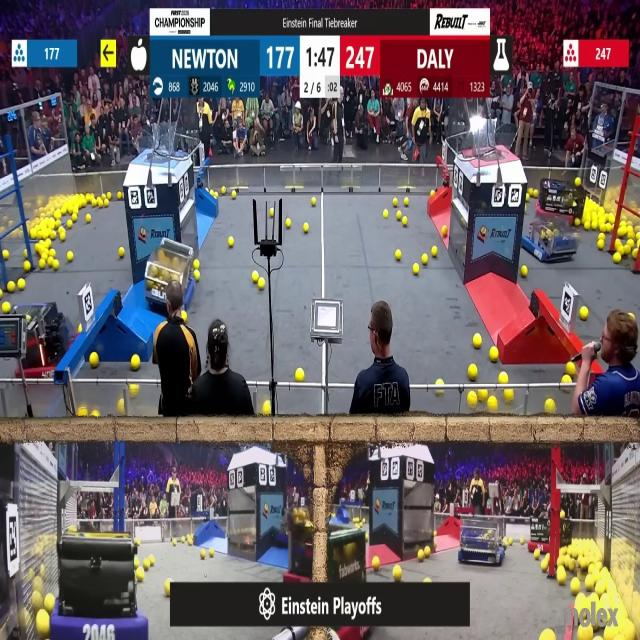ball_airborne: (36, 614, 50, 638), (560, 512, 565, 521)
ball_ground: (44, 595, 54, 612), (91, 352, 100, 368), (544, 398, 553, 414), (570, 580, 579, 596), (557, 568, 566, 584), (392, 566, 402, 580), (467, 392, 476, 407), (488, 396, 498, 409), (468, 363, 476, 379), (132, 354, 140, 370), (566, 361, 575, 375), (264, 403, 273, 417), (542, 630, 554, 640), (136, 568, 145, 581), (472, 335, 480, 349), (116, 402, 124, 416), (165, 582, 172, 598), (586, 580, 595, 592), (295, 367, 303, 380), (479, 389, 488, 400), (491, 348, 498, 362), (504, 389, 512, 401), (371, 557, 378, 570), (77, 409, 86, 419), (2, 303, 10, 314), (499, 373, 507, 384), (582, 308, 589, 320), (54, 261, 61, 273), (540, 560, 547, 572), (598, 221, 606, 231), (615, 252, 622, 263), (7, 282, 14, 293), (39, 261, 46, 272), (413, 265, 420, 276), (143, 559, 150, 570), (46, 257, 53, 268), (395, 249, 401, 261), (522, 267, 528, 279), (60, 230, 66, 242), (443, 224, 449, 236), (627, 230, 635, 239), (624, 247, 632, 256), (17, 280, 24, 290), (67, 251, 74, 261), (418, 552, 425, 562), (585, 220, 592, 230), (49, 231, 56, 241), (424, 546, 431, 556), (605, 222, 612, 232), (258, 279, 264, 290), (598, 240, 604, 251), (134, 558, 140, 569), (563, 376, 571, 384), (438, 379, 446, 387), (131, 384, 138, 393), (619, 229, 626, 238), (25, 263, 31, 273), (227, 238, 233, 248), (304, 222, 310, 232), (252, 273, 258, 283), (3, 250, 9, 260), (422, 254, 428, 264), (632, 249, 638, 259), (193, 272, 199, 282), (201, 550, 207, 560), (617, 240, 623, 250), (286, 218, 292, 228), (149, 556, 155, 566), (592, 220, 598, 230), (48, 249, 55, 257), (627, 239, 634, 247), (401, 216, 407, 225), (84, 214, 90, 223), (67, 219, 73, 228), (182, 312, 188, 321), (93, 199, 99, 208), (118, 248, 123, 258), (424, 576, 431, 583), (115, 191, 122, 198), (93, 412, 100, 419), (392, 200, 398, 208), (104, 200, 110, 208), (534, 552, 540, 560), (106, 191, 112, 199), (172, 537, 178, 545), (269, 208, 275, 216), (45, 240, 51, 248), (220, 186, 226, 194), (76, 324, 82, 332), (436, 388, 442, 396), (574, 218, 579, 227), (598, 234, 605, 240), (432, 247, 436, 257), (403, 199, 408, 207), (384, 209, 388, 219), (193, 262, 198, 270), (396, 212, 401, 220), (507, 537, 512, 545), (99, 200, 104, 208), (24, 250, 29, 258), (72, 214, 77, 222), (184, 538, 188, 547), (529, 188, 534, 195), (312, 199, 316, 207), (234, 190, 238, 198), (210, 550, 214, 558), (0, 290, 4, 298), (636, 232, 640, 240), (135, 538, 140, 544), (188, 538, 192, 545), (521, 538, 525, 544), (433, 530, 436, 536)
goal: (464, 120, 521, 160), (130, 130, 189, 160)
robot_blue: (54, 536, 145, 640), (147, 244, 196, 312), (524, 214, 578, 264), (460, 515, 506, 566)
robot_red: (537, 171, 585, 226), (528, 515, 552, 553)
